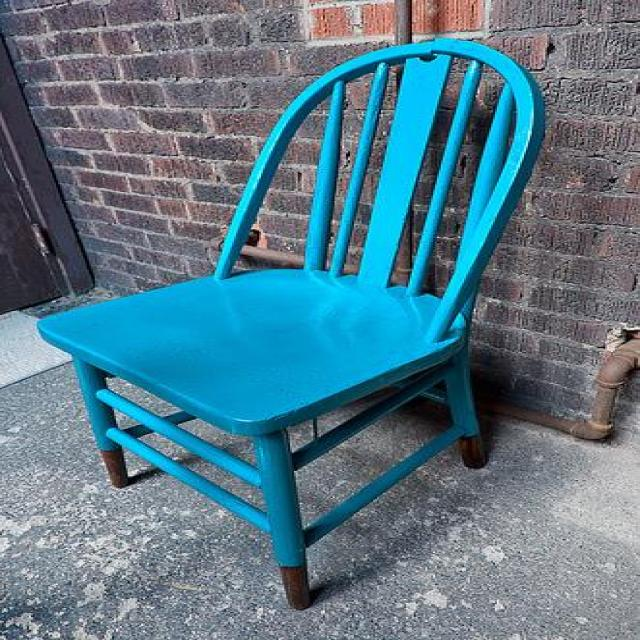chair: (35, 37, 545, 611)
